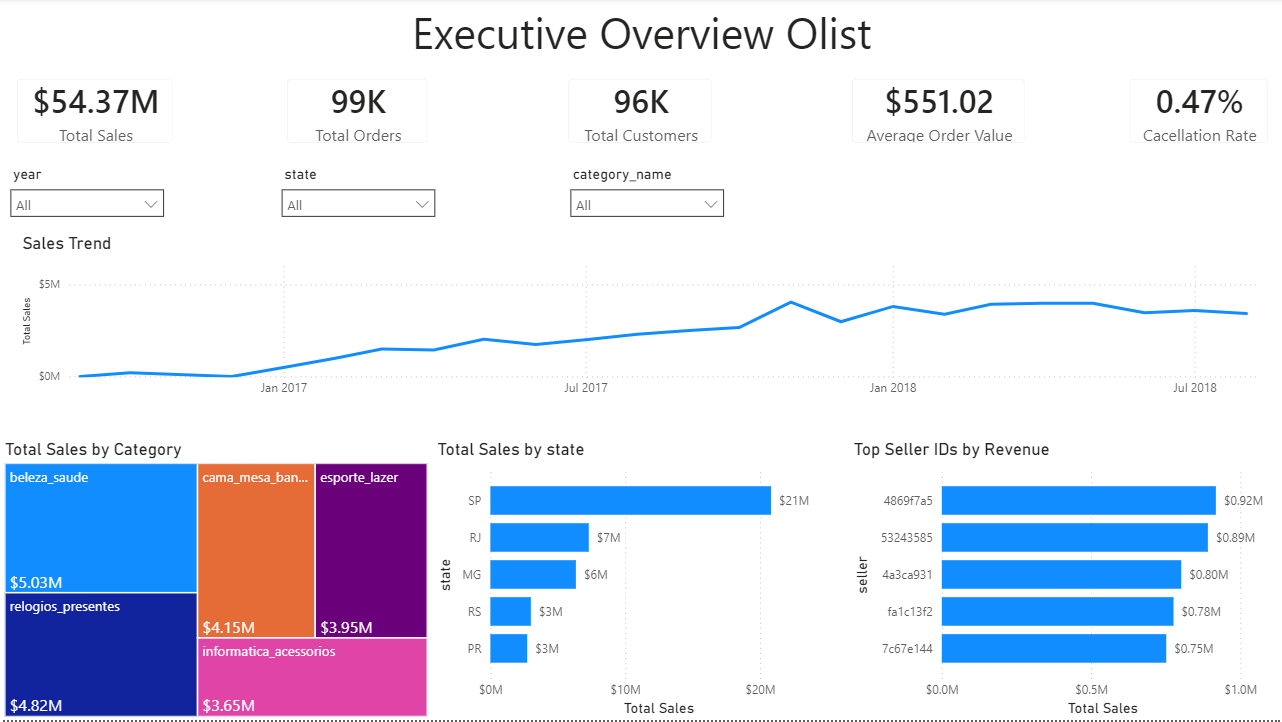

What the dashboard file says about the page in this screenshot:
{"tool":"powerbi","page":{"name":"Executive Overview","canvas":[1280,720],"ordinal":0},"visuals":[{"type":"cardVisual","fields":{"Data":["all_measures.Total Sales"]},"box":[0,63.4,189.1,98.3],"z":0},{"type":"cardVisual","fields":{"Data":["all_measures.Total Orders"]},"box":[268.7,63.4,174.2,98.3],"z":1000},{"type":"cardVisual","fields":{"Data":["all_measures.Customers"]},"box":[548.6,63.4,177.9,98.3],"z":2000},{"type":"cardVisual","fields":{"Data":["all_measures.Average Order Value"]},"box":[831,63.4,206.5,98.3],"z":3000},{"type":"cardVisual","fields":{"Data":["all_measures.Cacellation Rate"]},"box":[1107.1,63.4,172.9,98.3],"z":4000},{"type":"lineChart","title":"Sales Trend","fields":{"Category":["dim_date.date.Variation.Date Hierarchy.Year","dim_date.date.Variation.Date Hierarchy.Month"],"Y":["all_measures.Total Sales"]},"box":[17.4,233.9,1250.2,172.9],"z":5000},{"type":"treemap","title":"Total Sales by Category","fields":{"Group":["dim_product.category_name"],"Values":["all_measures.Total Sales"]},"box":[0,439.1,430.4,281.1],"z":6000},{"type":"clusteredBarChart","title":"Top Seller IDs by Revenue","fields":{"Category":["dim_seller.seller"],"Y":["all_measures.Total Sales"]},"box":[844.6,439.1,435.4,281.1],"z":7000},{"type":"slicer","fields":{"Values":["dim_date.year"]},"box":[0,161.7,172.9,63.4],"z":8000},{"type":"slicer","fields":{"Values":["dim_customer.state"]},"box":[269.9,161.7,172.9,70.9],"z":9000},{"type":"slicer","fields":{"Values":["dim_product.category_name"]},"box":[557.3,161.7,172.9,72.1],"z":10000},{"type":"barChart","fields":{"Category":["dim_customer.state"],"Y":["all_measures.Total Sales"]},"box":[430.4,439.1,414.2,281.1],"z":11000},{"type":"textbox","box":[355.8,0,566,72.1],"z":12000}]}

Visuals, with their boxes in screenshot pixels (x1, y1, x2, y2), scaled from the page's 1280x720 canvas onto the 1282x722 screenshot:
cardVisual - all_measures.Total Sales: 0 64 189 162
cardVisual - all_measures.Total Orders: 269 64 444 162
cardVisual - all_measures.Customers: 549 64 728 162
cardVisual - all_measures.Average Order Value: 832 64 1039 162
cardVisual - all_measures.Cacellation Rate: 1109 64 1281 162
"Sales Trend" lineChart: 17 235 1270 408
"Total Sales by Category" treemap: 0 440 431 721
"Top Seller IDs by Revenue" clusteredBarChart: 846 440 1281 721
slicer - dim_date.year: 0 162 173 226
slicer - dim_customer.state: 270 162 443 233
slicer - dim_product.category_name: 558 162 731 234
barChart - dim_customer.state x all_measures.Total Sales: 431 440 846 721
textbox: 356 0 923 72
